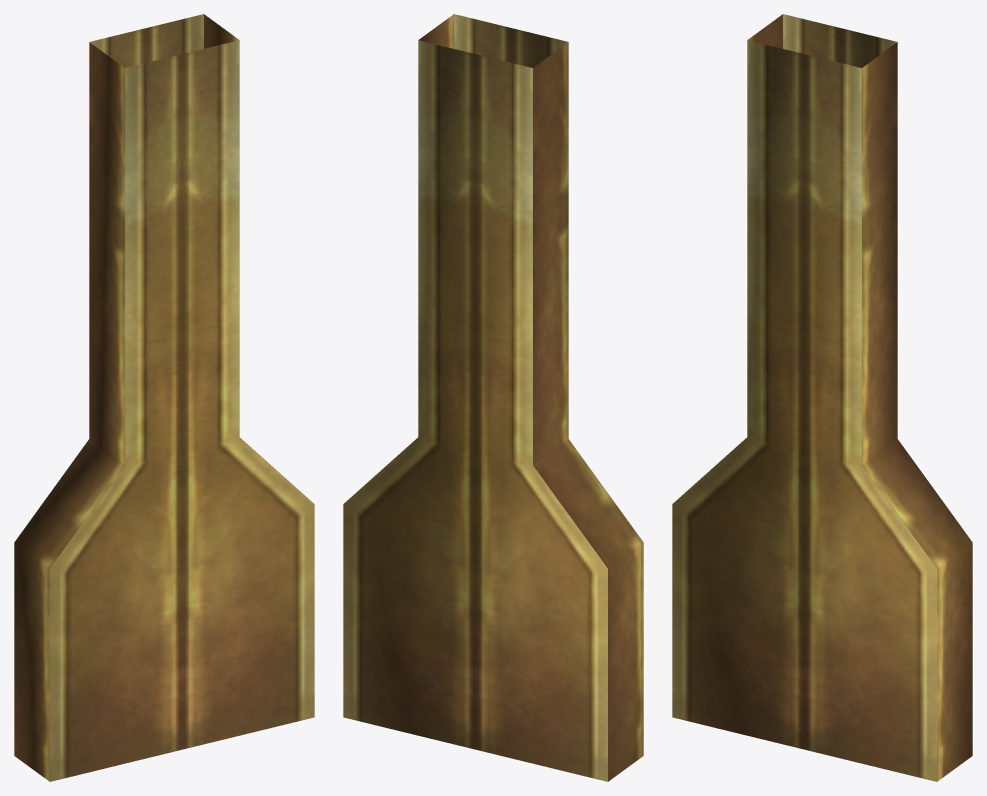
Rendered from G_hulan006.fbx.
3 renders of one model, left to right at view 1: azimuth 30°, elevation 25°; view 2: azimuth 150°, elevation 25°; view 3: azimuth 330°, elevation 25°, orthographic.
Parts seen in each view (by area): view 1: G_hulan006; view 2: G_hulan006; view 3: G_hulan006.
Part boxes in pixels (left/top/right/bottom): G_hulan006: left=14, top=14, right=314, bottom=781; G_hulan006: left=343, top=14, right=643, bottom=781; G_hulan006: left=672, top=14, right=972, bottom=781.
Bounding box in the file's own units: 48.15 × 121 × 11.27.
